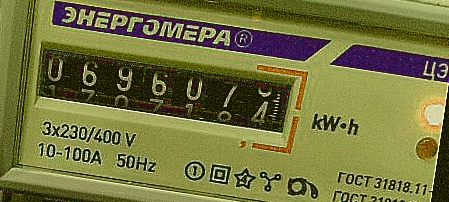0: (41, 51, 66, 84), (182, 72, 205, 103)
4: (246, 97, 269, 128)
6: (146, 66, 170, 100), (77, 57, 100, 88)
7: (216, 76, 239, 109)
9: (111, 62, 136, 94)
screen: (18, 23, 311, 156)
